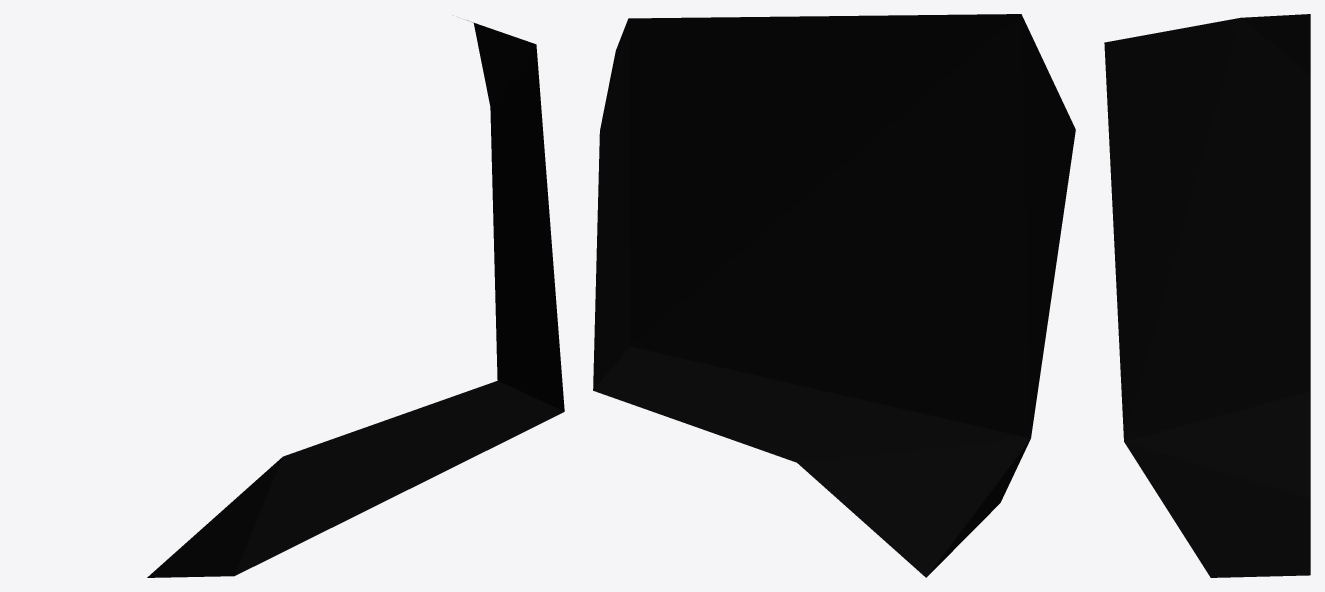
3 views of the same model, side by side, from view 1: azimuth 30°, elevation 25°; view 2: azimuth 150°, elevation 25°; view 3: azimuth 270°, elevation 25° (orthographic). The views are drawn at different scales.
Size of the model in its own units: 0.1171 by 0.1198 by 0.0447.
Materials: 1 (1 with a texture image).
